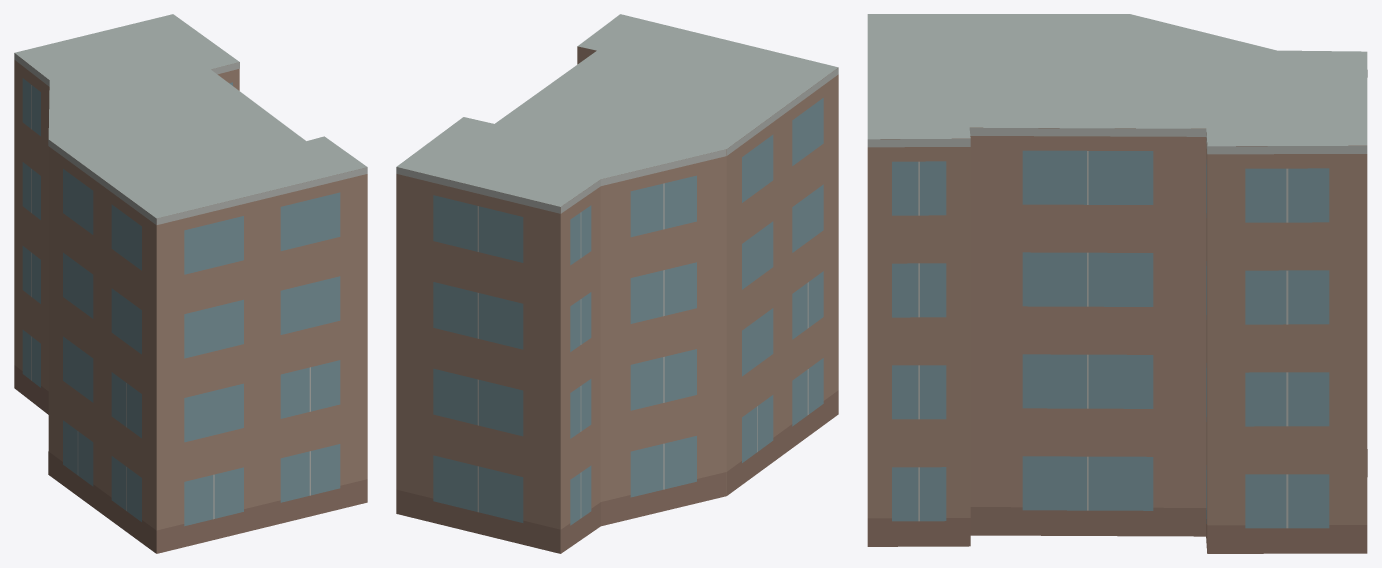
File: survey-upis-32624433.glb
The picture shows the model from 3 angles, left to right: view 1: azimuth 30°, elevation 25°; view 2: azimuth 150°, elevation 25°; view 3: azimuth 270°, elevation 25°; orthographic projection. The views are drawn at different scales.
Visible parts, largest first — view 1: survey-upis-32624433.tmp; view 2: survey-upis-32624433.tmp; view 3: survey-upis-32624433.tmp.
Boxes of the visible parts, bbox=[...] form: survey-upis-32624433.tmp: bbox=[14, 14, 367, 553]; survey-upis-32624433.tmp: bbox=[396, 14, 838, 553]; survey-upis-32624433.tmp: bbox=[867, 14, 1367, 553].
Bounding box in the file's own units: 8.5 × 12.2 × 13.57.
